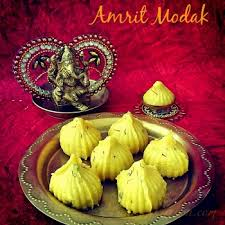modak: (120, 156, 172, 216), (49, 157, 105, 207), (146, 132, 193, 176), (109, 110, 149, 154), (60, 118, 99, 158), (96, 136, 131, 177), (143, 78, 175, 107)
